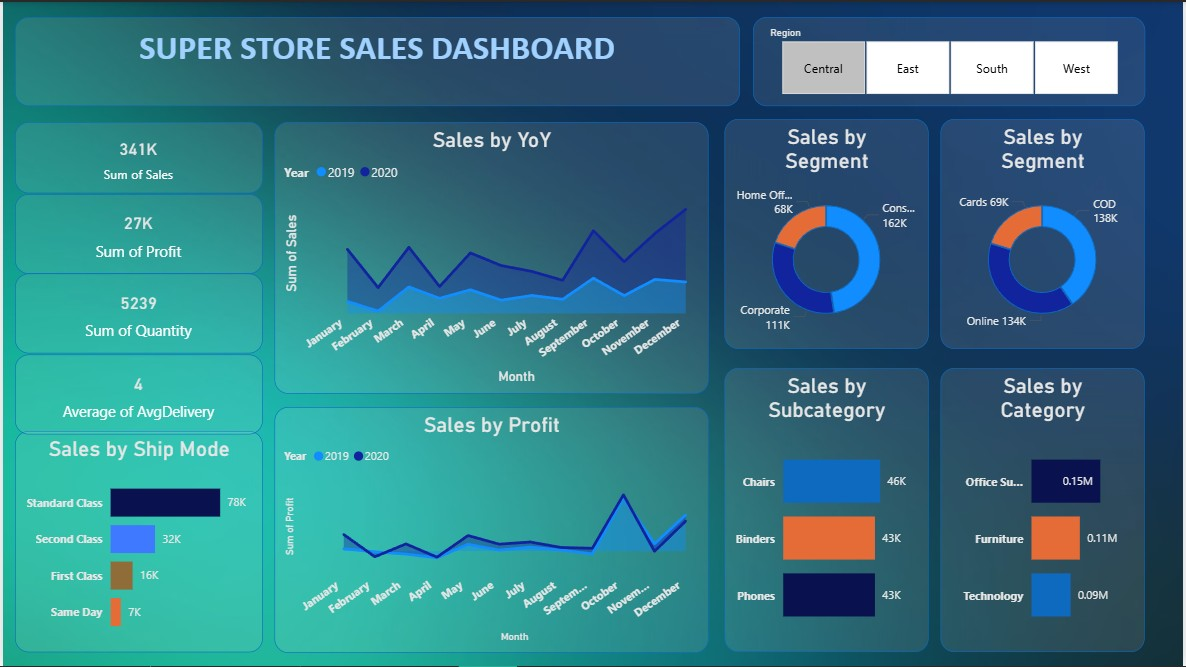

Layout of this report page (visuals, bound fields, positions):
{"tool":"powerbi","page":{"name":"DashBoard","canvas":[1280,720],"ordinal":0},"visuals":[{"type":"clusteredBarChart","title":"Sales by Category","fields":{"Category":["SuperStore_Sales_Dataset (2).Category"],"Y":["Sum(SuperStore_Sales_Dataset (2).Sales)"]},"box":[1016.7,396.9,221.1,308],"z":0},{"type":"clusteredBarChart","title":"Sales by Subcategory","fields":{"Category":["SuperStore_Sales_Dataset (2).Sub-Category"],"Y":["Sum(SuperStore_Sales_Dataset (2).Sales)"]},"box":[782.4,396.9,221.1,308],"z":1000},{"type":"clusteredBarChart","title":"Sales by Ship Mode","fields":{"Category":["SuperStore_Sales_Dataset (2).Ship Mode"],"Y":["Sum(SuperStore_Sales_Dataset (2).Sales)"]},"box":[13.2,464.9,268.3,240],"z":2000},{"type":"stackedAreaChart","title":"Sales by YoY","fields":{"Y":["Sum(SuperStore_Sales_Dataset (2).Sales)"],"Series":["SuperStore_Sales_Dataset (2).Order Date.Variation.Date Hierarchy.Year"],"Category":["SuperStore_Sales_Dataset (2).Order Date.Variation.Date Hierarchy.Month"]},"box":[294.8,130.4,470.6,294.8],"z":3000},{"type":"stackedAreaChart","title":"Sales by Profit","fields":{"Series":["SuperStore_Sales_Dataset (2).Order Date.Variation.Date Hierarchy.Year"],"Category":["SuperStore_Sales_Dataset (2).Order Date.Variation.Date Hierarchy.Month"],"Y":["Sum(SuperStore_Sales_Dataset (2).Profit)"]},"box":[294.8,438.4,470.6,266.5],"z":4000},{"type":"donutChart","title":"Sales by Segment","fields":{"Category":["SuperStore_Sales_Dataset (2).Payment Mode"],"Y":["Sum(SuperStore_Sales_Dataset (2).Sales)"]},"box":[1016.7,126.6,221.1,249.5],"z":5000},{"type":"donutChart","title":"Sales by Segment","fields":{"Category":["SuperStore_Sales_Dataset (2).Segment"],"Y":["Sum(SuperStore_Sales_Dataset (2).Sales)"]},"box":[782.4,126.6,221.1,249.5],"z":6000},{"type":"slicer","fields":{"Values":["SuperStore_Sales_Dataset (2).Region"]},"box":[812.6,17,425.2,96.4],"z":7000},{"type":"textbox","box":[13.2,17,786.1,96.4],"z":8000},{"type":"card","fields":{"Values":["Sum(SuperStore_Sales_Dataset (2).Sales)"]},"box":[13.2,130.4,268.3,77.5],"z":9000},{"type":"card","fields":{"Values":["Sum(SuperStore_Sales_Dataset (2).Profit)"]},"box":[13.2,207.9,268.3,86.9],"z":10000},{"type":"card","fields":{"Values":["Sum(SuperStore_Sales_Dataset (2).Quantity)"]},"box":[13.2,294.8,268.3,86.9],"z":11000},{"type":"card","fields":{"Values":["Avg(SuperStore_Sales_Dataset (2).AvgDelivery)"]},"box":[13.2,381.7,268.3,86.9],"z":12000}]}

Visuals, with their boxes in screenshot pixels (x1, y1, x2, y2), scaled from the page's 1280x720 canvas onto the 1186x667 screenshot:
"Sales by Category" clusteredBarChart: <bbox>942, 368, 1147, 653</bbox>
"Sales by Subcategory" clusteredBarChart: <bbox>725, 368, 930, 653</bbox>
"Sales by Ship Mode" clusteredBarChart: <bbox>12, 431, 261, 653</bbox>
"Sales by YoY" stackedAreaChart: <bbox>273, 121, 709, 394</bbox>
"Sales by Profit" stackedAreaChart: <bbox>273, 406, 709, 653</bbox>
"Sales by Segment" donutChart: <bbox>942, 117, 1147, 348</bbox>
"Sales by Segment" donutChart: <bbox>725, 117, 930, 348</bbox>
slicer - SuperStore_Sales_Dataset (2).Region: <bbox>753, 16, 1147, 105</bbox>
textbox: <bbox>12, 16, 741, 105</bbox>
card - Sum(SuperStore_Sales_Dataset (2).Sales): <bbox>12, 121, 261, 193</bbox>
card - Sum(SuperStore_Sales_Dataset (2).Profit): <bbox>12, 193, 261, 273</bbox>
card - Sum(SuperStore_Sales_Dataset (2).Quantity): <bbox>12, 273, 261, 354</bbox>
card - Avg(SuperStore_Sales_Dataset (2).AvgDelivery): <bbox>12, 354, 261, 434</bbox>
